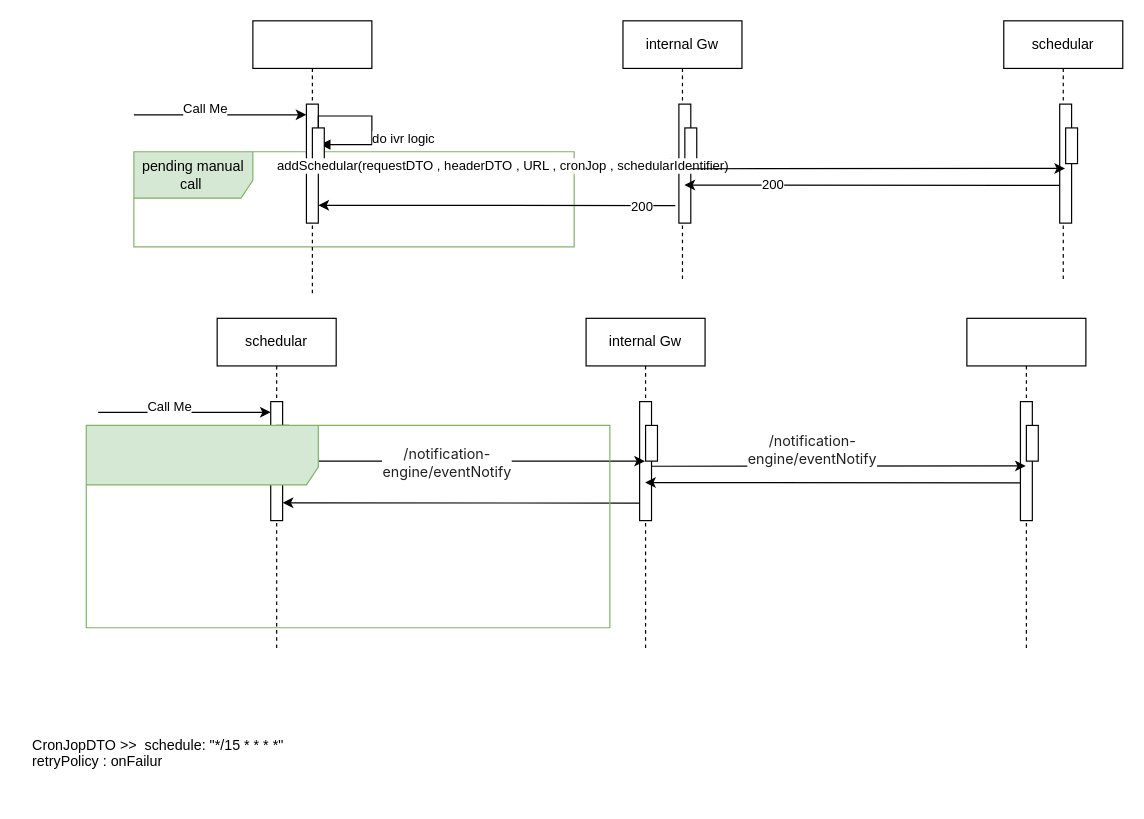
Some shapes in this 1144 by 819 pixel diagram are drawn without their labels. Here are the shapes that lost their labels. From the top down, the centre of each, then its label:
point 312,157: IVR
point 1026,484: Notification engine
point 347,526: loop if counter > #autoIVRCounter[20] and forceStop = false
